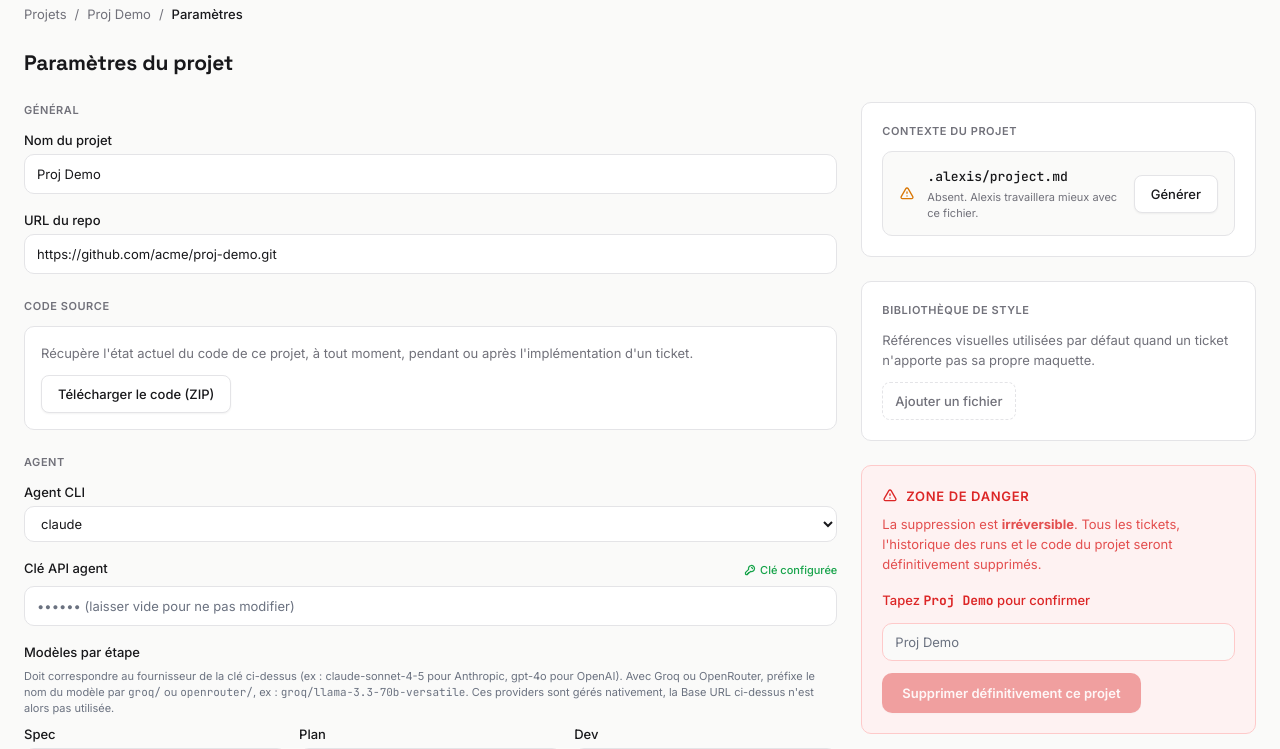
Scenario: ProjectSettingsPage › shows success message and clears secret fields after save
This screenshot has width=1280, height=749.
Expected: the field labelled "Nom du projet" is shown, [24, 154, 837, 194]
In the password field labelled "Clé API agent": coordinates (431, 606) [24, 586, 837, 626], type "sk-ant-xxx"
(page scrolled)
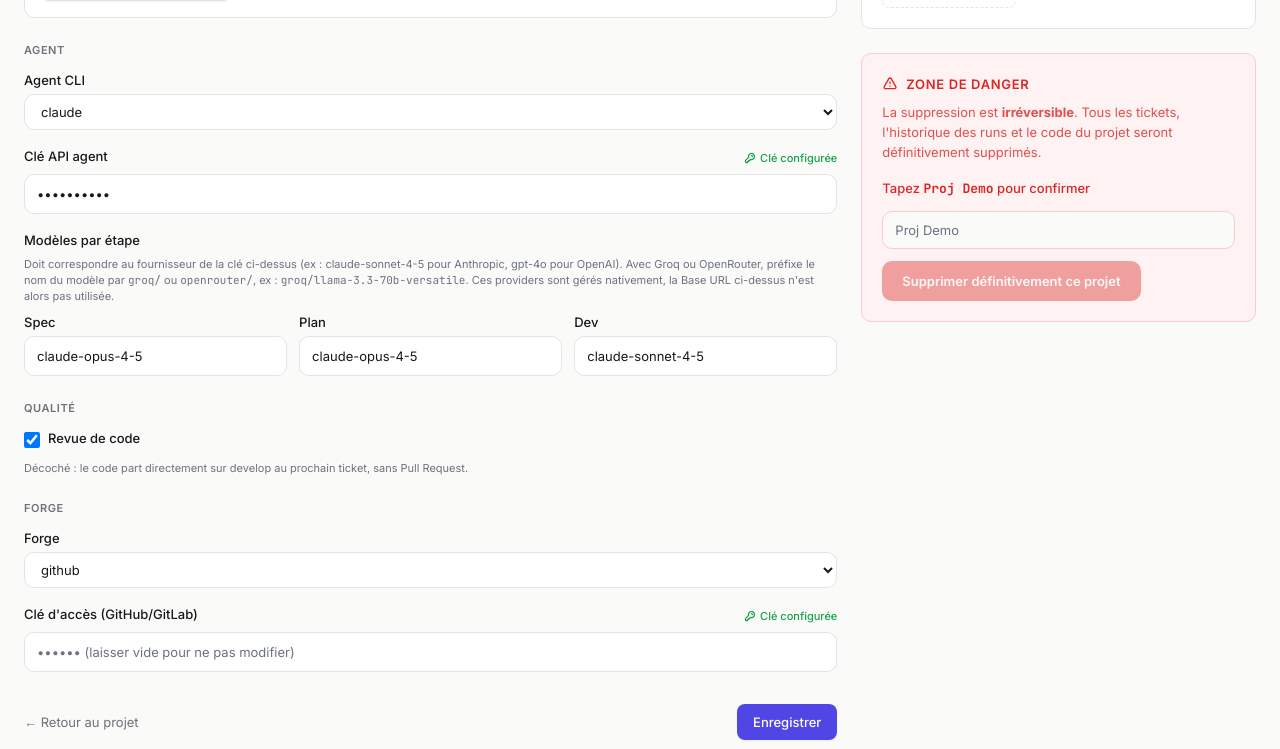
Click the button "Enregistrer": coordinates (787, 722) [737, 704, 837, 740]
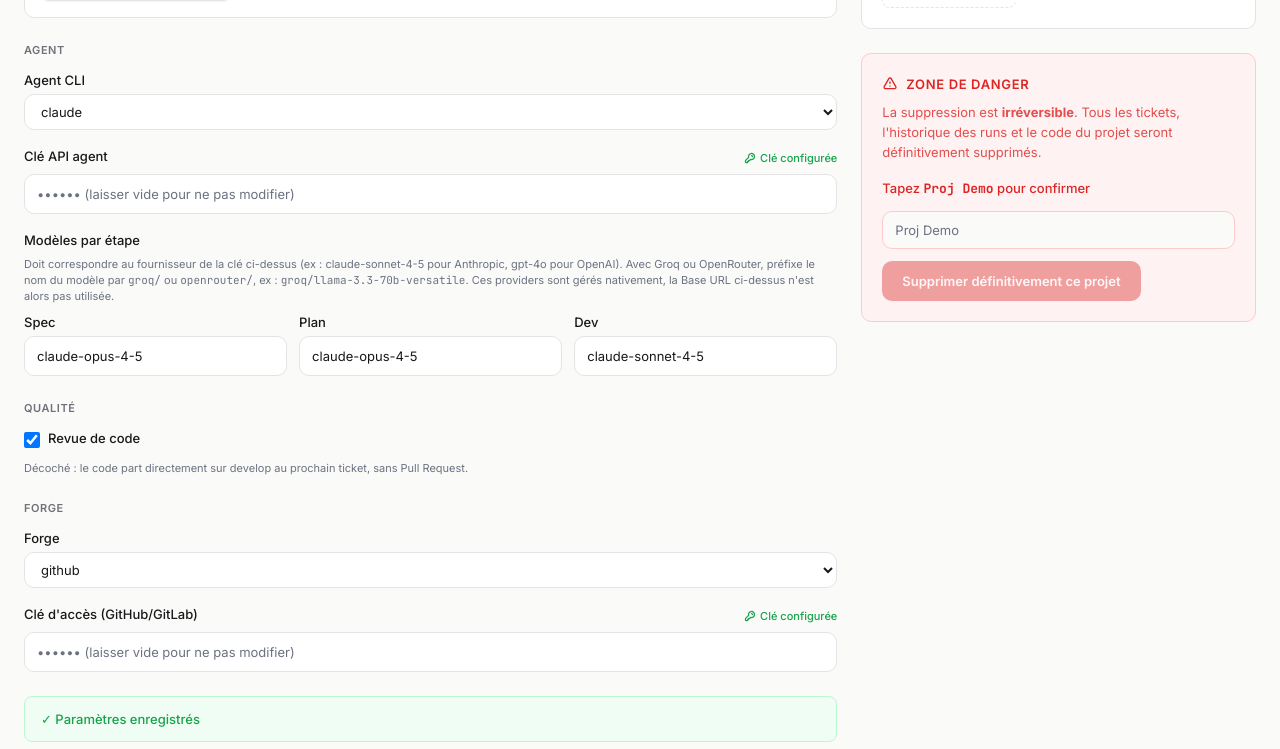
Now the text "✓ Paramètres enregistrés" is shown, box [24, 696, 837, 742]
Now the password field labelled "Clé API agent" is empty, box [24, 174, 837, 214]
